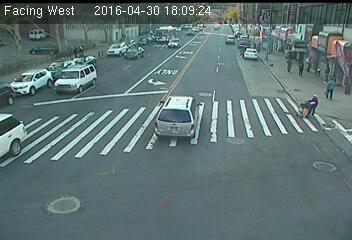neg: (260, 36, 279, 61), (182, 111, 200, 135), (337, 102, 351, 127), (327, 39, 343, 59), (89, 41, 102, 58), (292, 29, 305, 46), (49, 40, 62, 56), (46, 58, 58, 73), (97, 41, 109, 56), (65, 72, 76, 86), (234, 44, 245, 58), (297, 101, 308, 115), (111, 36, 121, 49), (62, 60, 71, 72), (33, 24, 42, 36), (279, 36, 288, 48), (311, 32, 320, 43)
pos: (303, 90, 327, 122), (324, 76, 341, 100), (319, 62, 336, 85), (301, 52, 317, 73), (294, 57, 310, 78), (283, 54, 297, 73), (69, 44, 82, 61), (74, 42, 87, 58), (63, 44, 75, 59)
